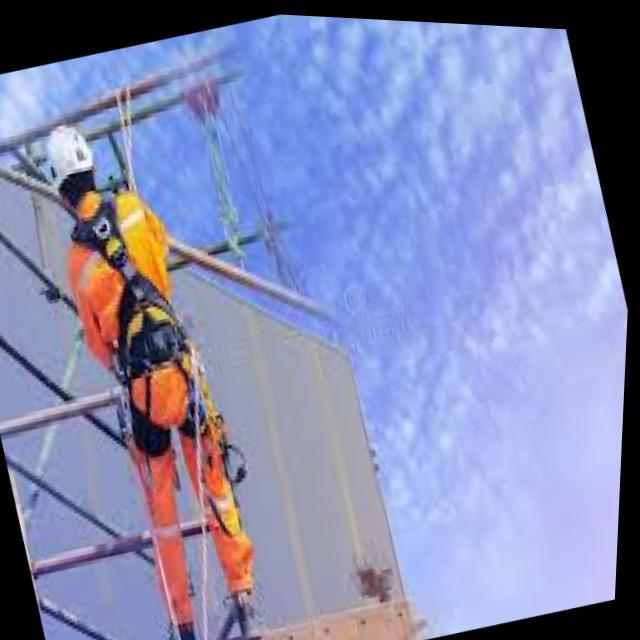belt: (52, 174, 230, 453)
